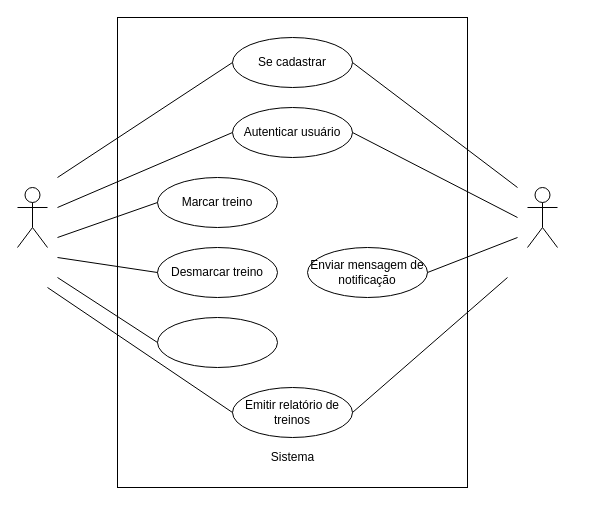
The diagram is 591 pixels wide and 505 high, and some of its shapes have lost their labels. Here are the shapes that lost their labels. From the top down, the centre of each, then its label:
At [32,217]: "Aluno".
At [542,217]: "Proprietário".
At [217,342]: "Editar treino".
